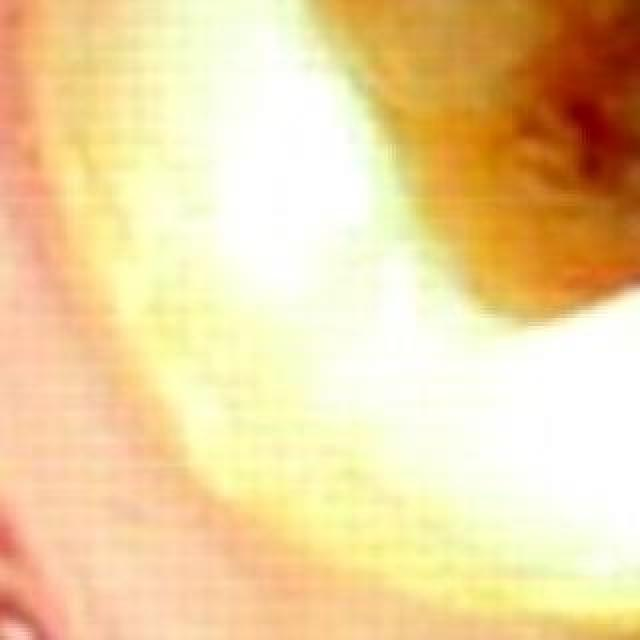cavities: (72, 0, 640, 528)
